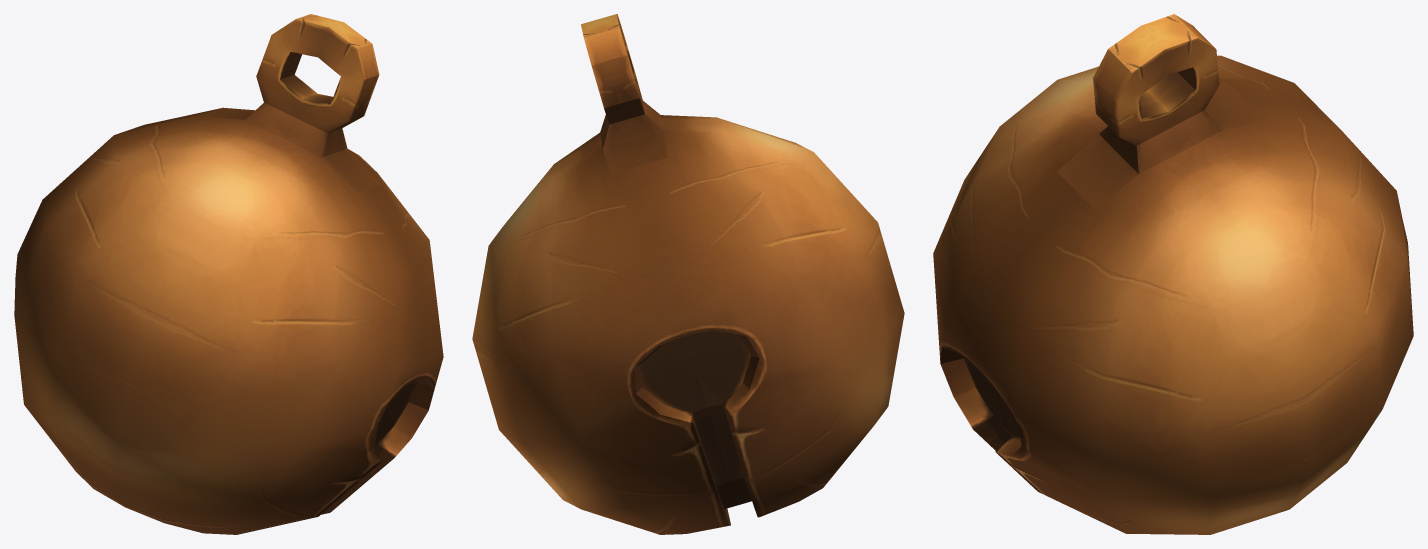
The model's file is 86_bell.FBX.
The picture shows the model from 3 angles, left to right: view 1: azimuth 30°, elevation 25°; view 2: azimuth 150°, elevation 25°; view 3: azimuth 270°, elevation 25°; orthographic projection. The views are drawn at different scales.
Visible parts, largest first — view 1: Sphere001; view 2: Sphere001; view 3: Sphere001.
Part boxes in pixels (box(x1,y1,x2,y2)): Sphere001: box(14, 14, 443, 534); Sphere001: box(472, 14, 904, 534); Sphere001: box(933, 14, 1413, 534).
Size of the model in its own units: 42.4 by 51.82 by 42.39.
